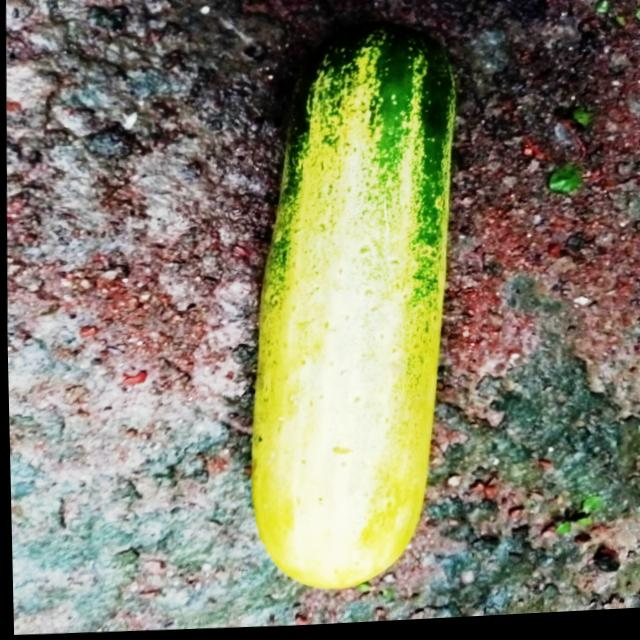Fresh-Cucumber: (235, 13, 469, 601)
